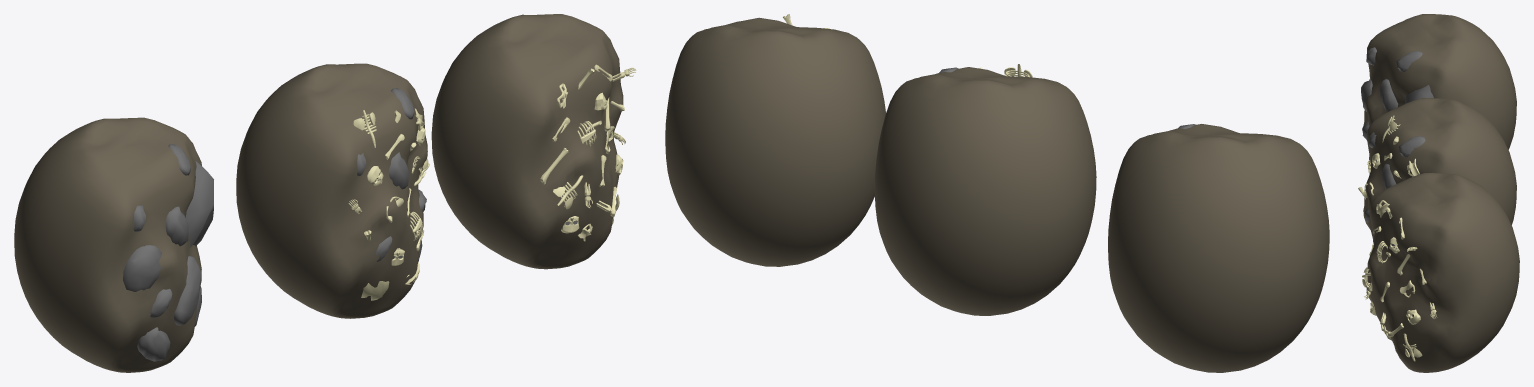
Rendered from EsquinaRocosa.fbx.
3 views of the same model, side by side, from view 1: azimuth 30°, elevation 25°; view 2: azimuth 150°, elevation 25°; view 3: azimuth 270°, elevation 25° (orthographic). The views are drawn at different scales.
Visible parts, largest first — view 1: pCube11, pCube2, pCube10, pCube22, polySurface739, Esc_Cadaver:polySurface700, pCube21; view 2: pCube2, pCube10, pCube11; view 3: pCube11, pCube10, pCube2, polySurface739, pCube22, pCube21, Esc_Cadaver:polySurface700.
Part boxes in pixels (box(x1,y1,x2,y2)): pCube11: box(431, 14, 623, 269); pCube2: box(236, 63, 427, 318); pCube10: box(14, 117, 201, 372); pCube22: box(123, 144, 213, 361); polySurface739: box(540, 64, 636, 241); Esc_Cadaver:polySurface700: box(348, 108, 429, 300); pCube21: box(356, 88, 426, 262); pCube2: box(874, 67, 1096, 315); pCube10: box(1108, 124, 1329, 372); pCube11: box(665, 17, 885, 266); pCube11: box(1366, 172, 1519, 372); pCube10: box(1363, 14, 1516, 149); pCube2: box(1363, 98, 1516, 238); polySurface739: box(1362, 200, 1437, 361); pCube22: box(1361, 47, 1433, 164); pCube21: box(1364, 132, 1425, 222); Esc_Cadaver:polySurface700: box(1358, 115, 1419, 199).
Size of the model in its own units: 25.54 by 9.52 by 7.74.
